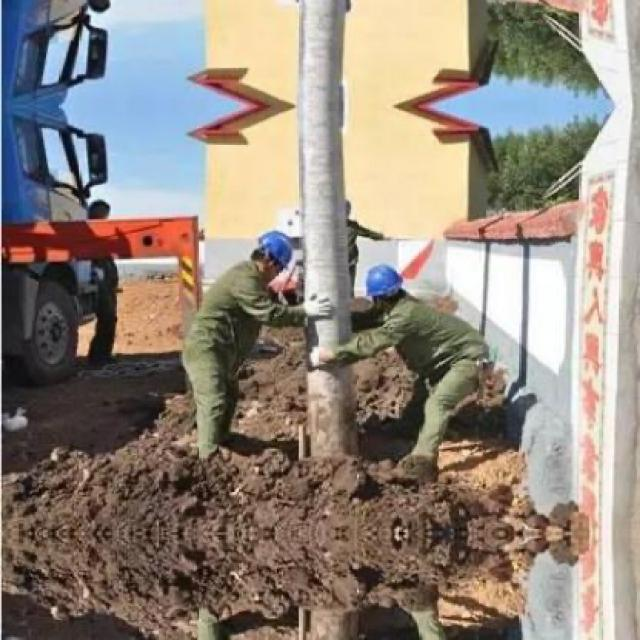helmet: (250, 226, 296, 284), (362, 264, 408, 312)
